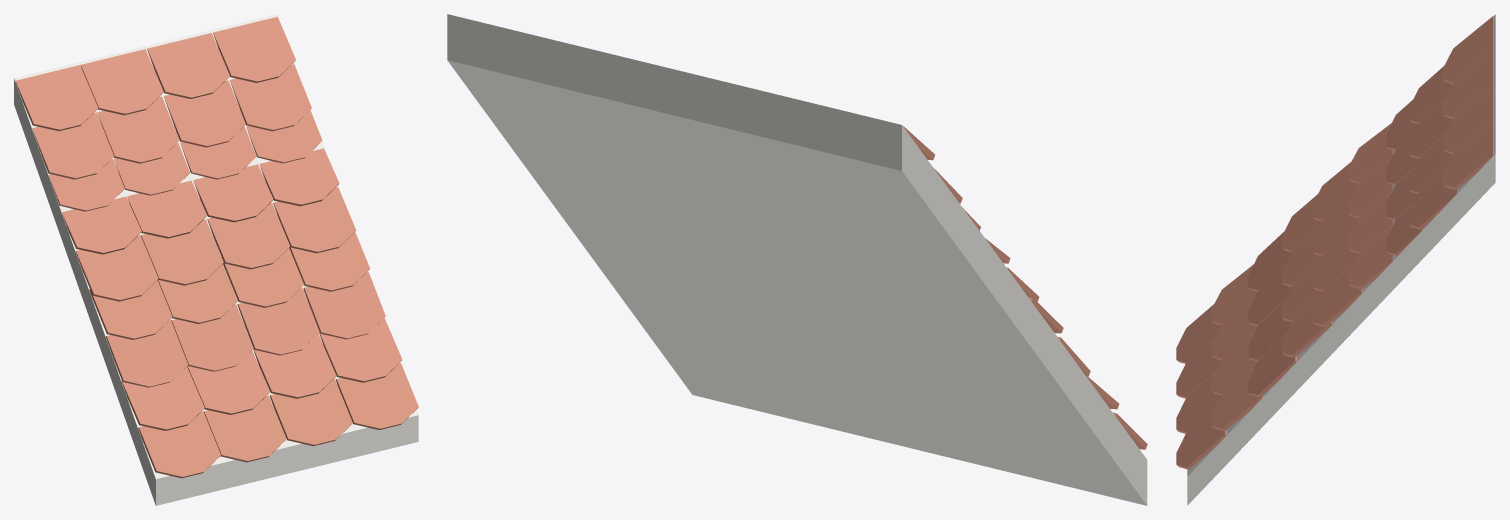
File: Roof01_house4.fbx
3 views of the same model, side by side, from view 1: azimuth 30°, elevation 25°; view 2: azimuth 150°, elevation 25°; view 3: azimuth 270°, elevation 25° (orthographic). The views are drawn at different scales.
Parts seen in each view (by area): view 1: Roof01_house04.001; view 2: Roof01_house04.001; view 3: Roof01_house04.001.
Boxes of the visible parts, x1,y1,x2,y2 form: Roof01_house04.001: [14, 14, 418, 505]; Roof01_house04.001: [447, 14, 1147, 505]; Roof01_house04.001: [1176, 14, 1495, 505].
Bounding box in the file's own units: 223 × 262 × 215.
